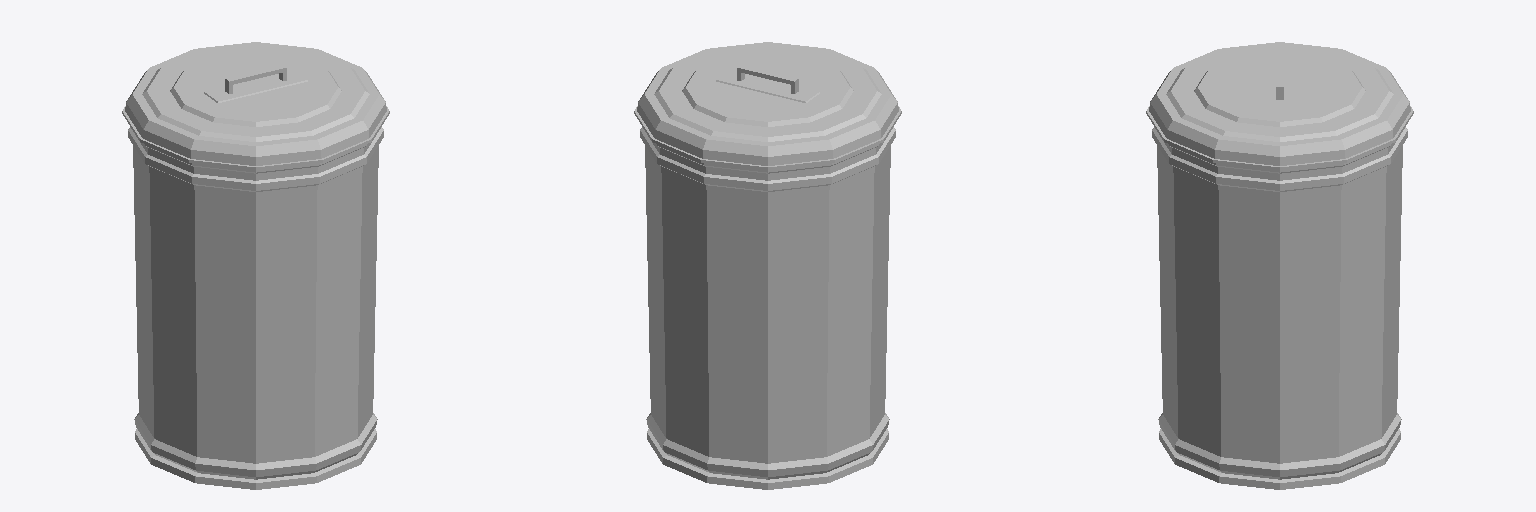
3 views of the same model, side by side, from view 1: azimuth 30°, elevation 25°; view 2: azimuth 150°, elevation 25°; view 3: azimuth 270°, elevation 25° (orthographic).
Visible parts, largest first — view 1: Trashcan_Large.001_Cylinder.151; view 2: Trashcan_Large.001_Cylinder.151; view 3: Trashcan_Large.001_Cylinder.151.
Part boxes in pixels (left/top/right/bottom): Trashcan_Large.001_Cylinder.151: left=122, top=42, right=389, bottom=489; Trashcan_Large.001_Cylinder.151: left=634, top=42, right=901, bottom=489; Trashcan_Large.001_Cylinder.151: left=1146, top=42, right=1413, bottom=489.
Size of the model in its own units: 73.39 by 111 by 73.39.